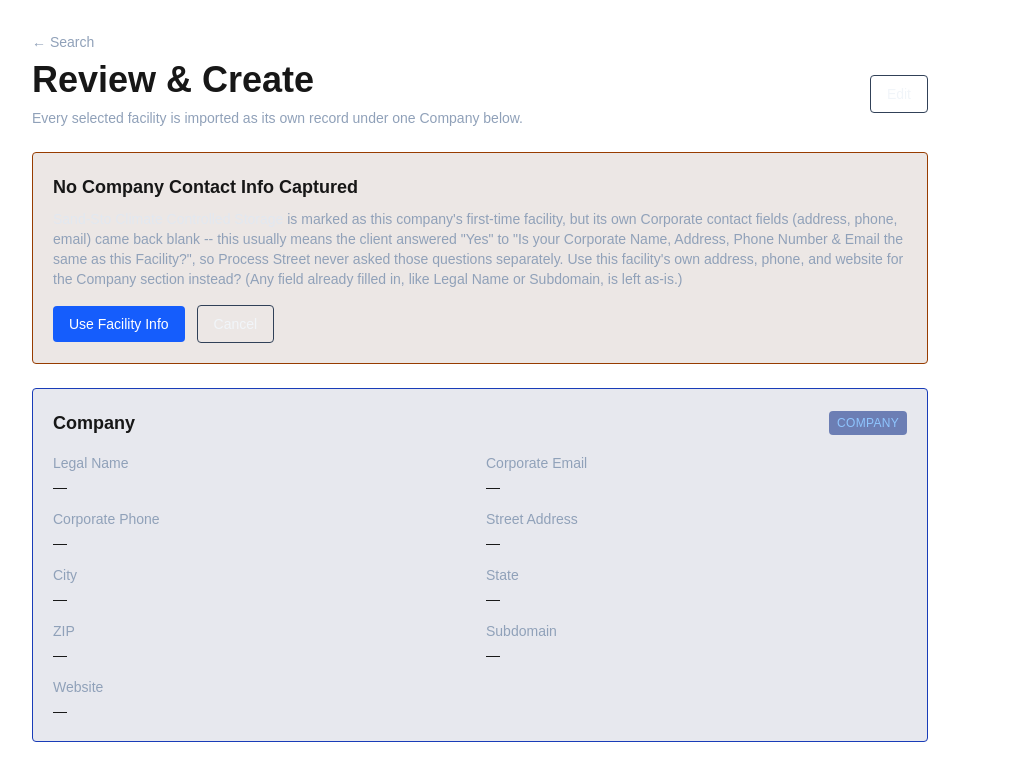
Test case: ClientsNewPage › no company contact info captured fallback › copies the facility's name/address/phone/website into the Company section on accept
This screenshot has width=1024, height=766.
expect the heading "No Company Contact Info Captured" is shown: met, box [53,177,358,197]
Click the button "Use Facility Info" at (119,324), box [53,306,185,342]
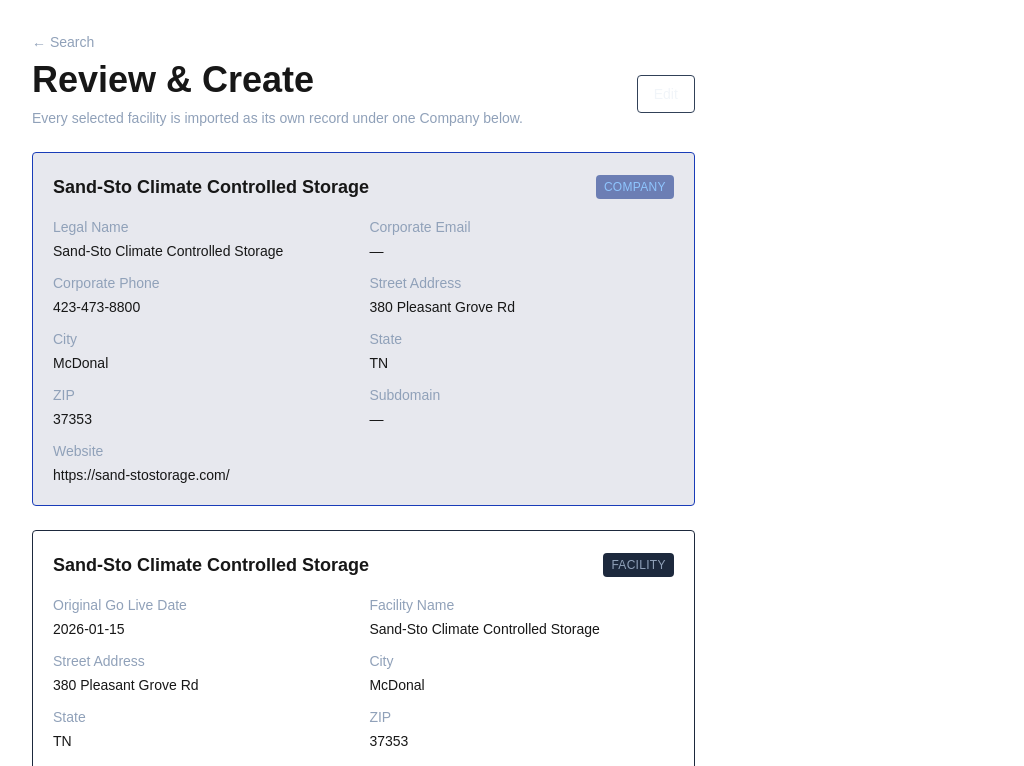
expect the number of headings "Sand-Sto Climate Controlled Storage" is 4: met, box [53,173,369,201]; [53,243,283,259]; [53,551,369,579]; [369,621,600,637]
expect the heading "No Company Contact Info Captured" is gone: met
